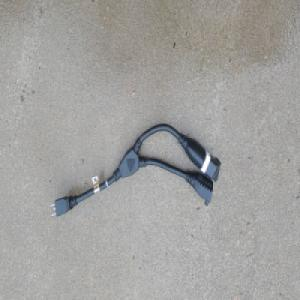Wire: (48, 120, 221, 219)
